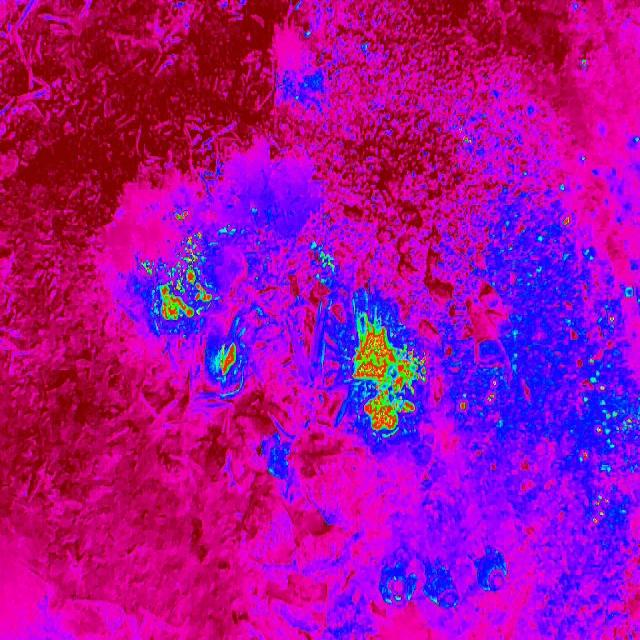fire: (577, 302, 640, 534), (352, 312, 428, 436), (140, 232, 217, 324), (454, 380, 502, 415), (218, 342, 240, 378), (556, 212, 574, 232), (169, 209, 190, 223), (322, 253, 336, 271), (582, 54, 590, 72)
